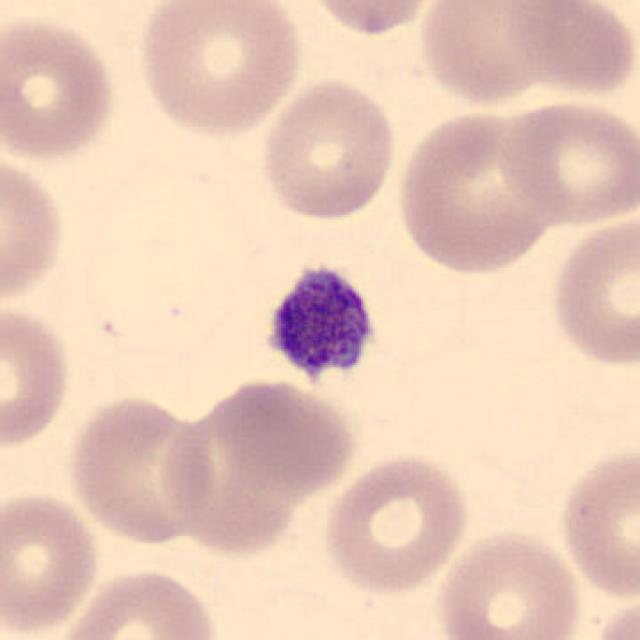Platelets: (250, 252, 388, 400)
RBC: (156, 377, 324, 561), (391, 104, 558, 279), (134, 0, 308, 141), (62, 390, 217, 548), (318, 448, 475, 598), (256, 74, 400, 224), (201, 374, 359, 497), (492, 95, 638, 228), (0, 9, 121, 166), (432, 525, 585, 640), (414, 0, 570, 109), (0, 488, 103, 636), (546, 208, 638, 372), (497, 0, 638, 102), (555, 442, 638, 604), (50, 564, 224, 640), (0, 301, 76, 451), (0, 146, 69, 311), (295, 0, 445, 39), (587, 594, 638, 640)
